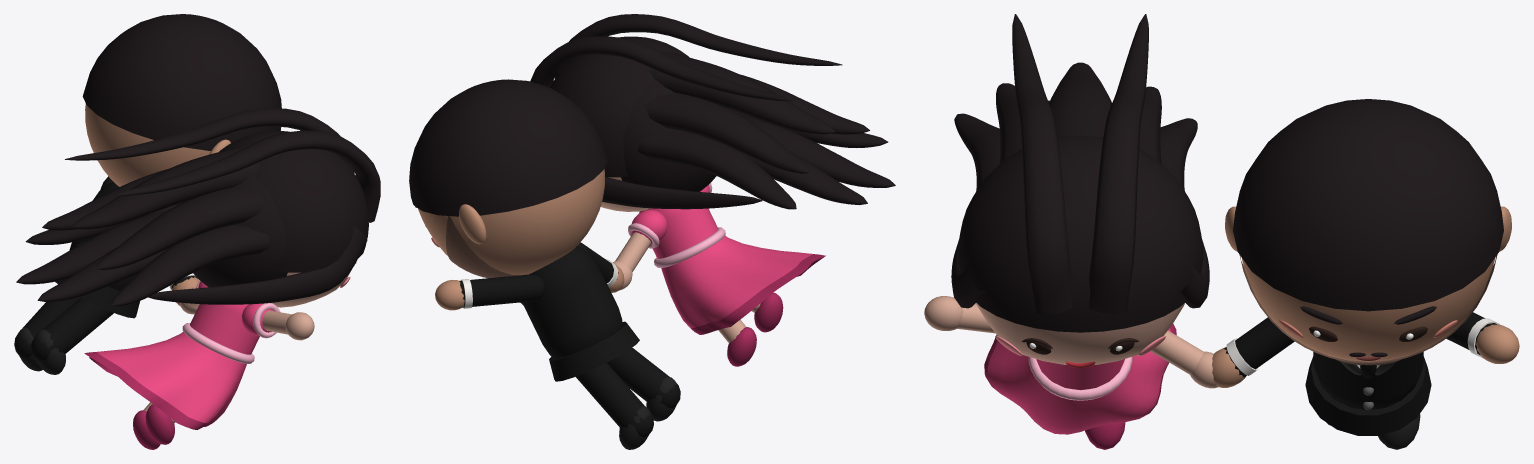
File: couple.glb
3 renders of one model, left to right at view 1: azimuth 30°, elevation 25°; view 2: azimuth 150°, elevation 25°; view 3: azimuth 270°, elevation 25°, orthographic. The views are drawn at different scales.
Parts seen in each view (by area): view 1: him_hair_crewcut, her_hair_cap, her_skirt, her_hair_stream_2, her_hair_swoop_R, her_hair_stream_4, her_hair_side_R, her_hair_stream_1, her_hair_swoop_L, her_hair_back, him_head_skin, her_hair_stream_7 (+18 smaller); view 2: him_hair_crewcut, him_head_skin, her_skirt, him_jacket, her_hair_cap, her_hair_stream_3, her_hair_stream_5, her_hair_swoop_L, her_hair_stream_1, her_hair_back, her_hair_swoop_R, her_hair_side_L (+20 smaller); view 3: him_hair_crewcut, her_hair_cap, her_hair_swoop_R, her_hair_swoop_L, him_head_skin, her_skirt, her_head_skin, him_jacket_hem, him_jacket, her_hair_stream_1, her_hair_stream_4, him_arm_R (+17 smaller).
Part boxes in pixels (<box>): him_hair_crewcut: <box>82,14,281,150</box>; her_hair_cap: <box>219,131,368,272</box>; her_skirt: <box>97,332,246,423</box>; her_hair_stream_2: <box>95,187,264,270</box>; her_hair_swoop_R: <box>114,130,380,222</box>; her_hair_stream_4: <box>111,225,270,306</box>; her_hair_side_R: <box>148,227,367,304</box>; her_hair_stream_1: <box>72,145,259,229</box>; her_hair_swoop_L: <box>65,108,354,173</box>; her_hair_back: <box>193,173,287,287</box>; him_head_skin: <box>85,103,210,186</box>; her_hair_stream_7: <box>16,210,167,284</box>; him_hair_crewcut: <box>409,79,607,216</box>; him_head_skin: <box>418,169,604,275</box>; her_skirt: <box>661,235,812,328</box>; him_jacket: <box>522,246,622,358</box>; her_hair_cap: <box>550,36,689,177</box>; her_hair_stream_3: <box>644,92,810,173</box>; her_hair_stream_5: <box>638,130,796,209</box>; her_hair_swoop_L: <box>530,36,793,101</box>; her_hair_stream_1: <box>648,51,834,134</box>; her_hair_back: <box>621,79,716,191</box>; her_hair_swoop_R: <box>554,14,842,78</box>; her_hair_side_L: <box>602,177,762,209</box>; him_hair_crewcut: <box>1233,99,1503,311</box>; her_hair_cap: <box>958,135,1203,332</box>; her_hair_swoop_R: <box>1012,14,1072,314</box>; her_hair_swoop_L: <box>1088,14,1148,314</box>; him_head_skin: <box>1242,258,1494,361</box>; her_skirt: <box>987,328,1171,434</box>; her_head_skin: <box>976,303,1184,364</box>; him_jacket_hem: <box>1305,356,1431,435</box>; him_jacket: <box>1313,352,1423,410</box>; her_hair_stream_1: <box>1049,62,1111,136</box>; her_hair_stream_4: <box>954,113,1000,190</box>; him_arm_R: <box>1224,317,1294,377</box>.
Size of the model in its own units: 2.14 by 1.87 by 2.38.
